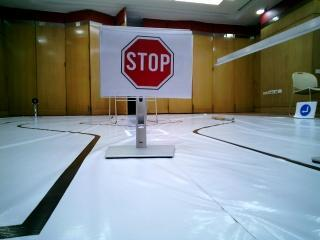stop: (105, 25, 190, 95)
